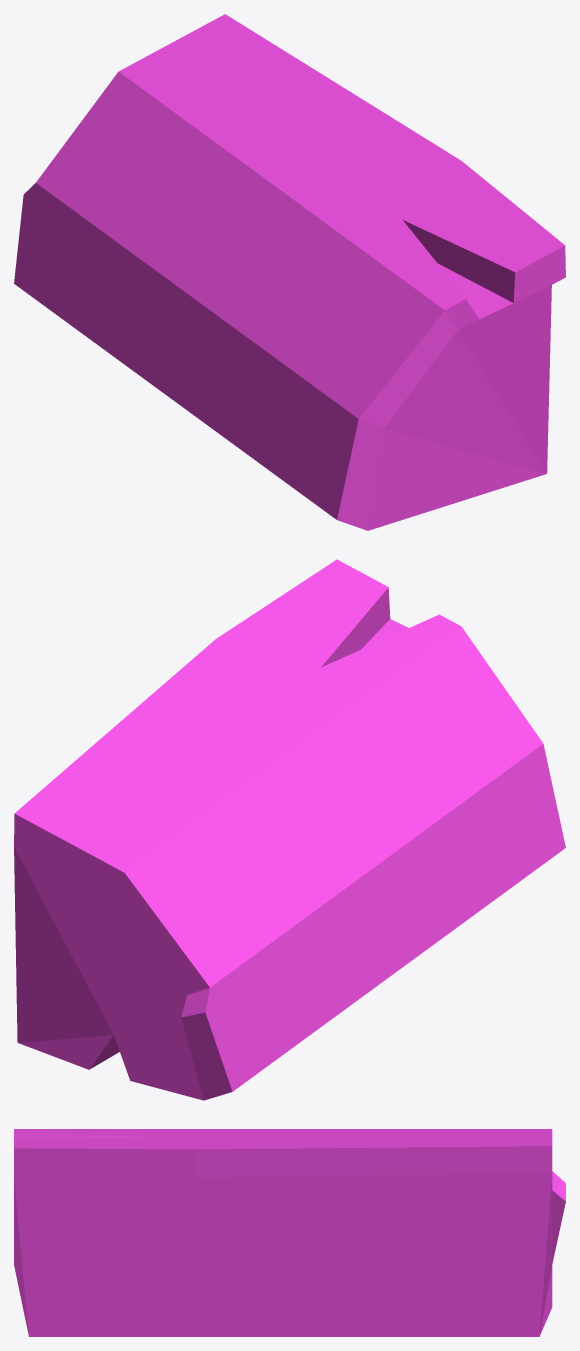
Rendered from SM_Wood_Chunk_C_Fantasy.fbx.
3 views of the same model, one above another, from view 1: azimuth 30°, elevation 25°; view 2: azimuth 150°, elevation 25°; view 3: azimuth 270°, elevation 25° (orthographic). The views are drawn at different scales.
Parts seen in each view (by area): view 1: SM_Wood_Chunk_C_Fantasy; view 2: SM_Wood_Chunk_C_Fantasy; view 3: SM_Wood_Chunk_C_Fantasy.
Part boxes in pixels (box(x1,y1,x2,y2)): SM_Wood_Chunk_C_Fantasy: box(14, 14, 565, 530); SM_Wood_Chunk_C_Fantasy: box(14, 559, 565, 1100); SM_Wood_Chunk_C_Fantasy: box(14, 1129, 565, 1336).
Size of the model in its own units: 0.1971 by 0.1934 by 0.4899.
